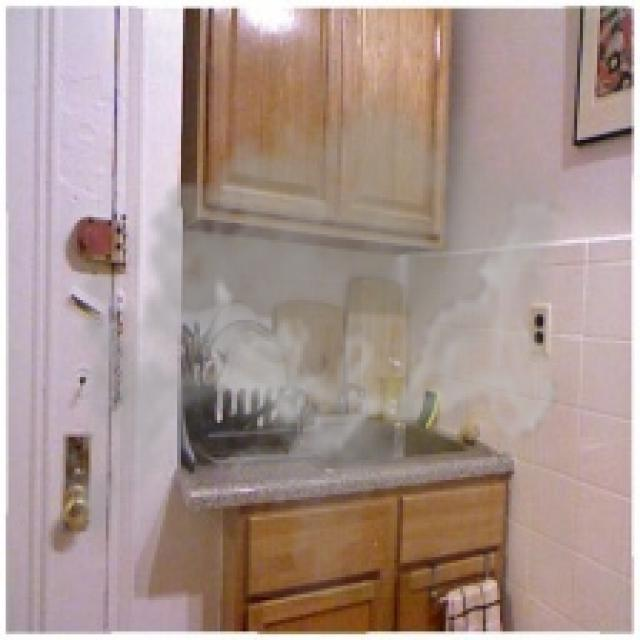Smoke: (42, 62, 572, 598)
